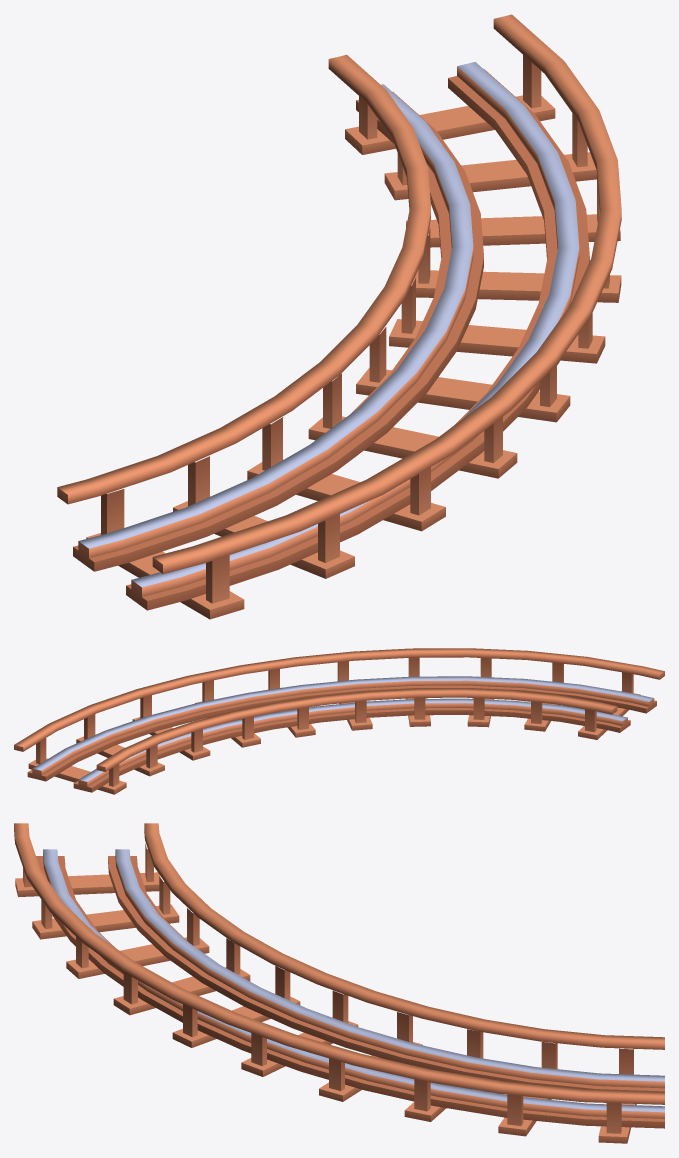
The model's file is kenney-coaster-coaster-wood-corner-large.glb.
3 views of the same model, one above another, from view 1: azimuth 30°, elevation 25°; view 2: azimuth 150°, elevation 25°; view 3: azimuth 270°, elevation 25° (orthographic). The views are drawn at different scales.
Parts seen in each view (by area): view 1: coaster-wood-corner-large; view 2: coaster-wood-corner-large; view 3: coaster-wood-corner-large.
Part boxes in pixels (bbox=[...]): coaster-wood-corner-large: bbox=[57, 14, 621, 619]; coaster-wood-corner-large: bbox=[14, 648, 664, 794]; coaster-wood-corner-large: bbox=[14, 823, 664, 1143].
Bounding box in the file's own units: 4.5 × 0.3499 × 4.5.
1 material, 1 textured.
